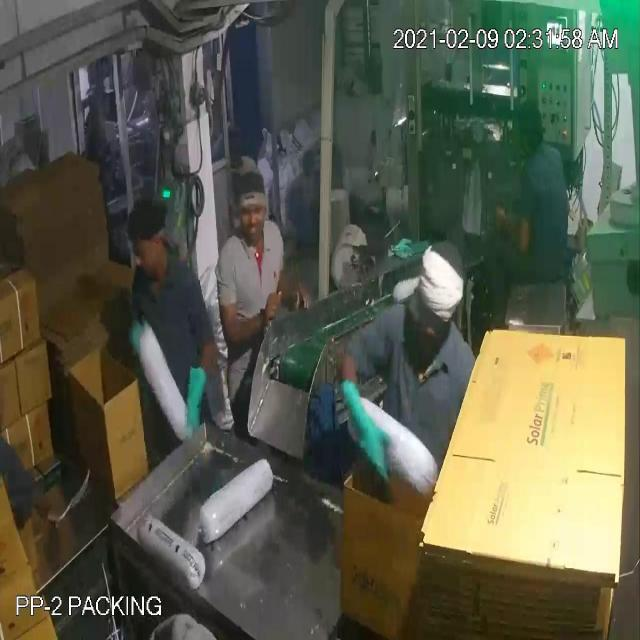No_Gloves: (38, 58, 518, 420)
